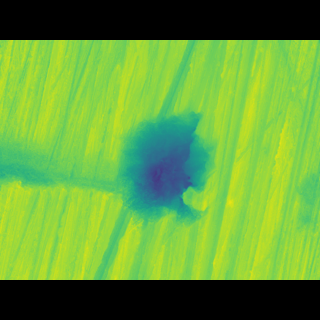Loch: (115, 121, 215, 212)
